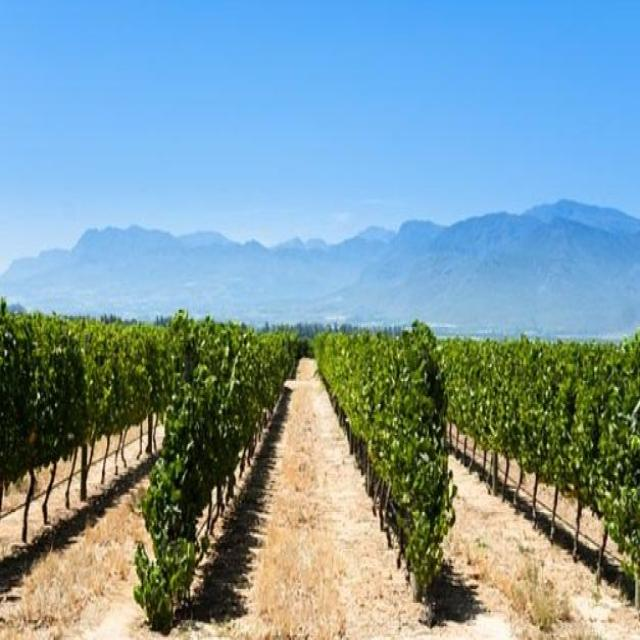row: (182, 354, 424, 631), (393, 438, 630, 617), (0, 467, 235, 607)
